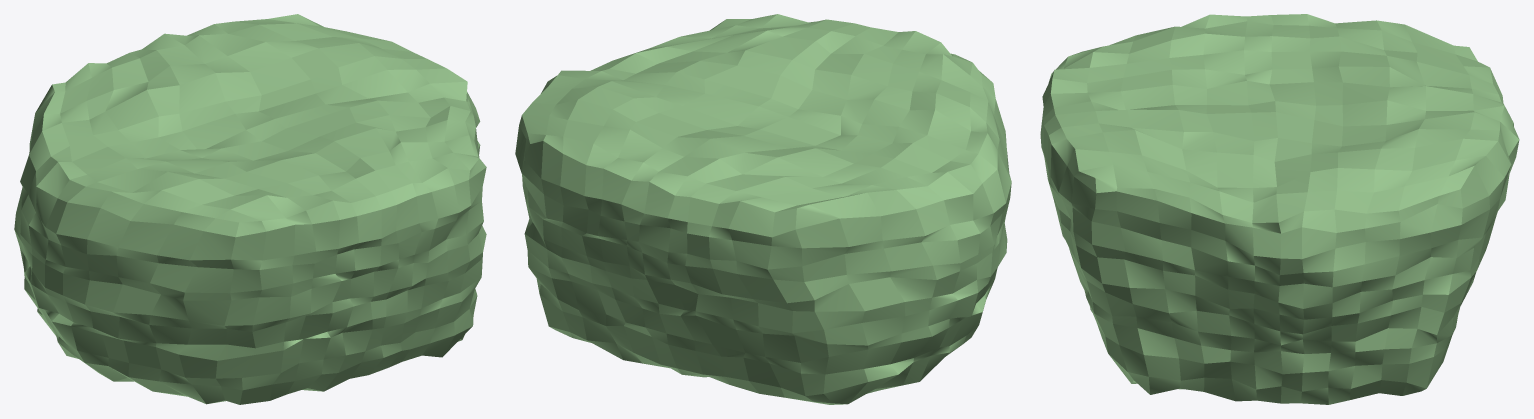
File: BowlBush.fbx
The picture shows the model from 3 angles, left to right: view 1: azimuth 30°, elevation 25°; view 2: azimuth 150°, elevation 25°; view 3: azimuth 270°, elevation 25°; orthographic projection. The views are drawn at different scales.
Visible parts, largest first — view 1: pCube4677; view 2: pCube4677; view 3: pCube4677.
Boxes of the visible parts, left/top/right/bottom form: pCube4677: left=14, top=14, right=486, bottom=404; pCube4677: left=515, top=14, right=1011, bottom=404; pCube4677: left=1040, top=14, right=1519, bottom=404.
Bounding box in the file's own units: 1.69 × 0.8657 × 1.53.
